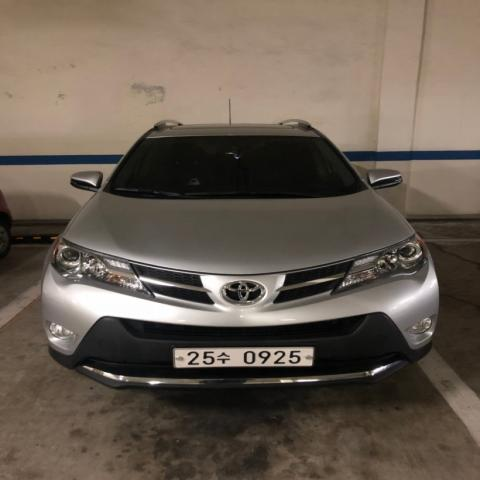LP: (166, 340, 319, 376)
